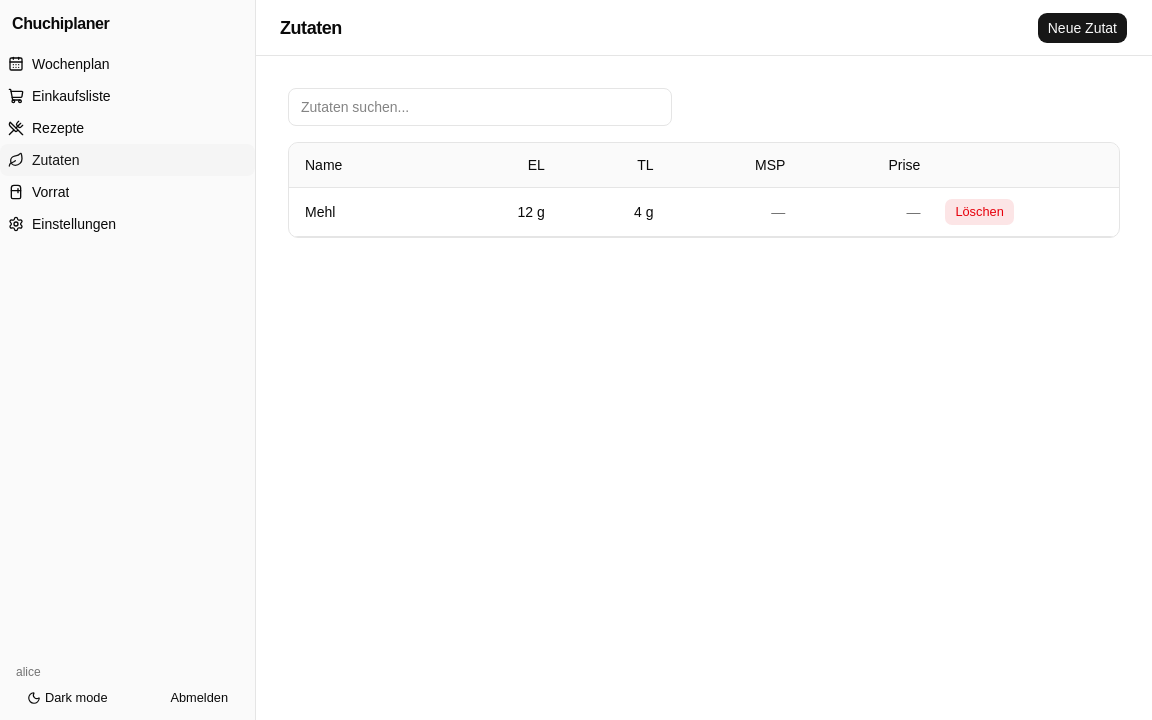
Scenario: IngredientsPage › shows error when API returns an error on PATCH
The image size is (1152, 720).
Expected: the text "Mehl" is shown, top-left (305, 204), bottom-right (335, 220)
Click the text "12 g" at (525, 212), box top-left (518, 204), bottom-right (545, 220)
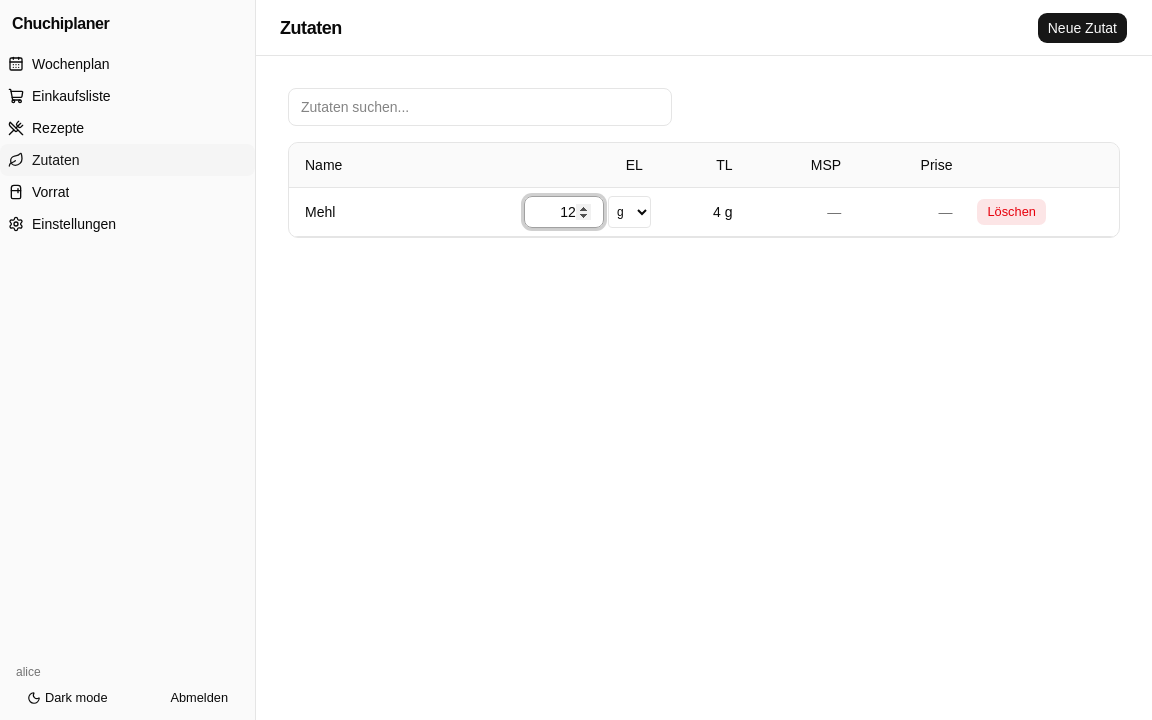
Replace the text in the number field showing "12" with "10" at (564, 212), box top-left (524, 196), bottom-right (604, 228)
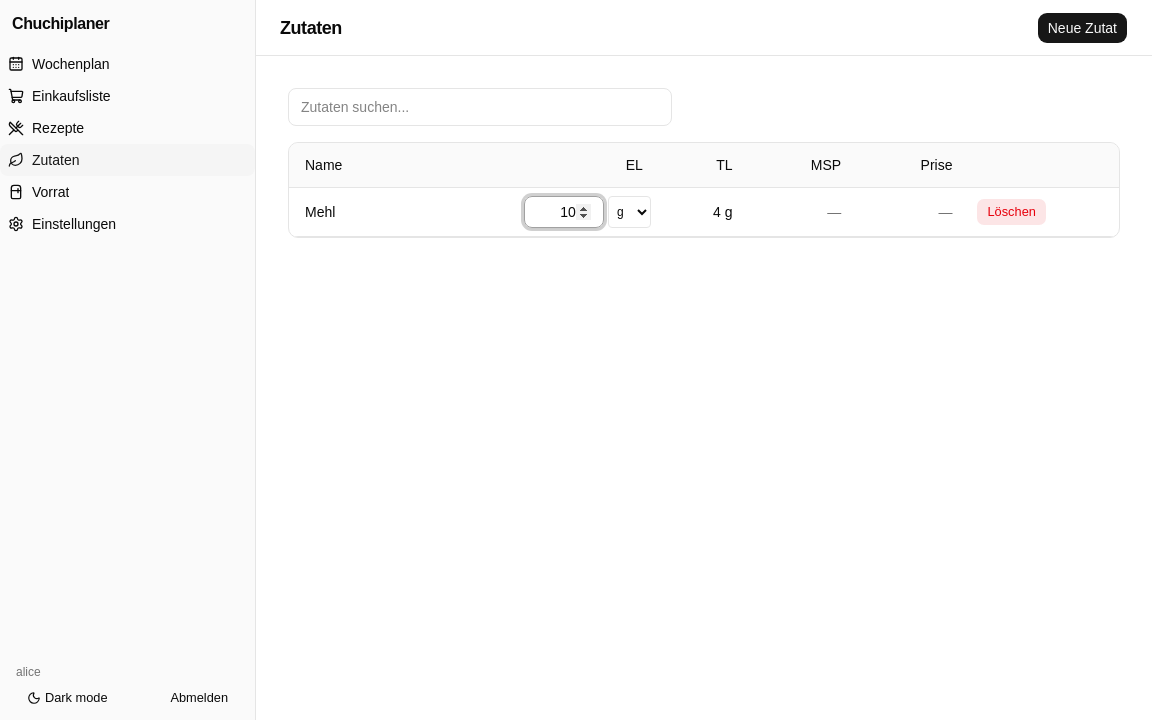
Press Tab
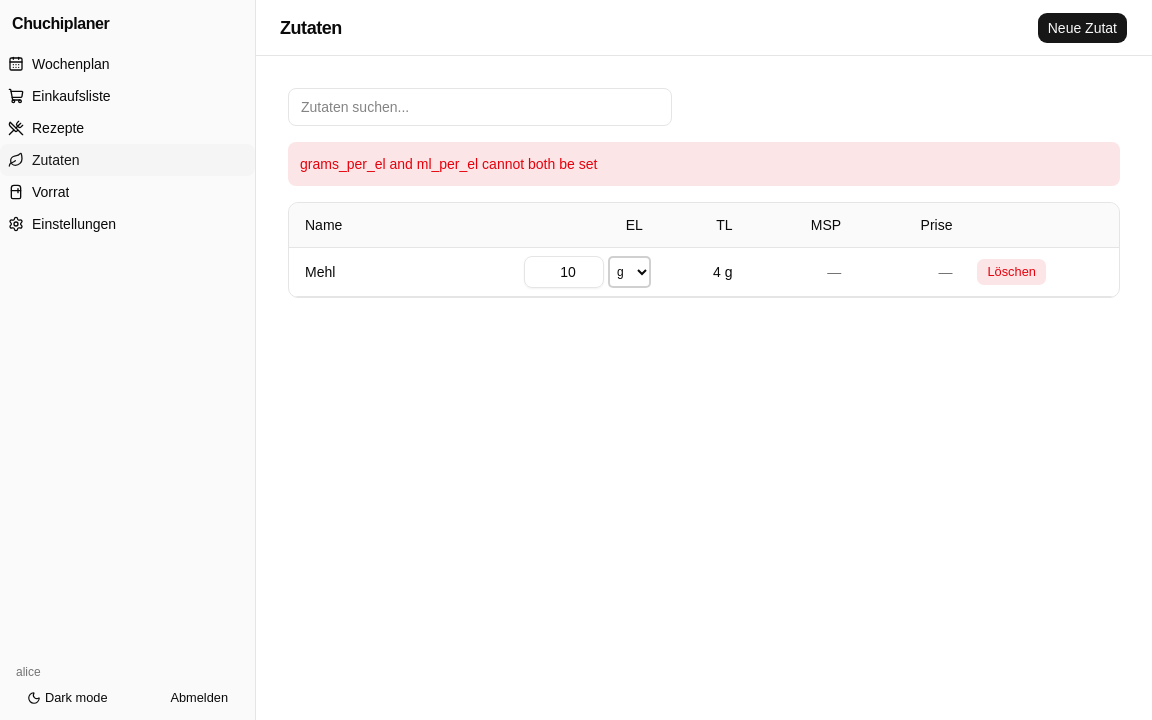
Now the text "grams_per_el and ml_per_el cannot both be set" is shown, box top-left (288, 142), bottom-right (1120, 186)
